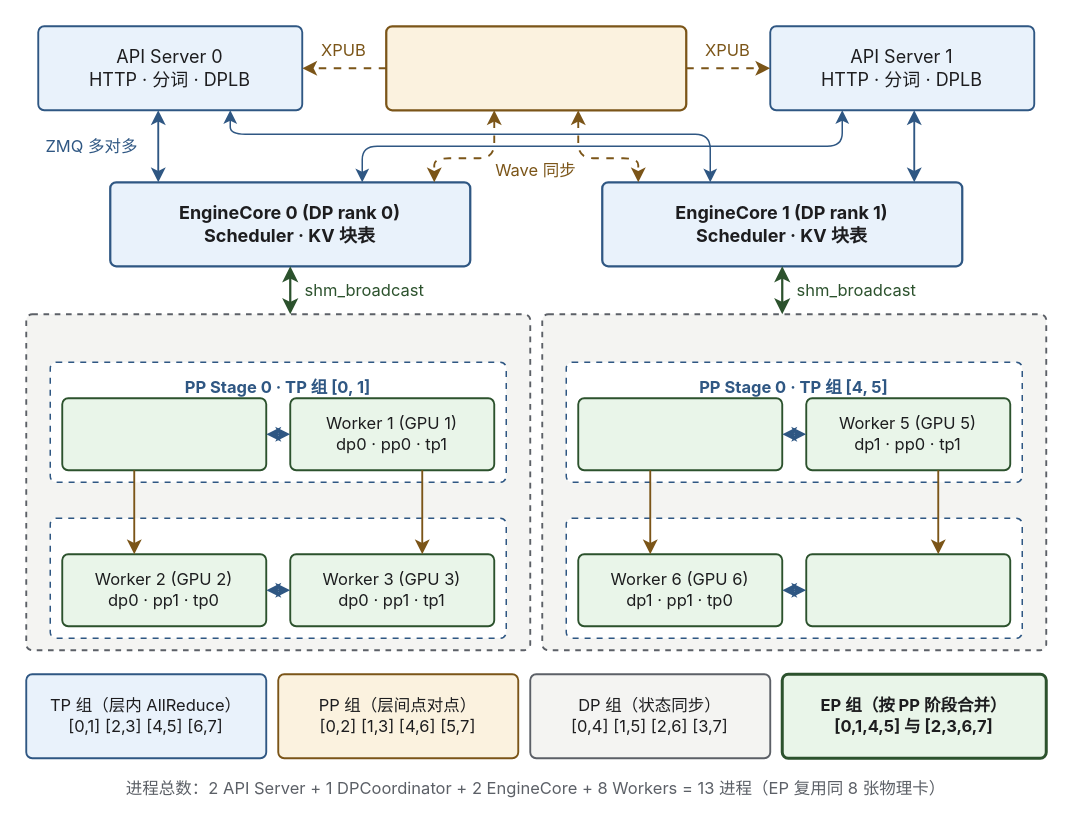
The diagram is 1074 pixels wide and 833 high, and some of its shapes have lost their labels. The shapes that lost their labels are listed below. From the top down, each one's box as (x1, y1, x2, y2) in pixels, then its label:
(384, 24, 687, 111): DPCoordinator (1 进程) 状态聚合 · Wave 广播
(61, 397, 267, 471): Worker 0 (GPU 0) dp0 · pp0 · tp0
(577, 397, 783, 471): Worker 4 (GPU 4) dp1 · pp0 · tp0
(25, 313, 531, 651): DP Rank 0 域（共 4 个 Worker 进程）
(541, 313, 1047, 651): DP Rank 1 域（共 4 个 Worker 进程）
(49, 517, 506, 638): PP Stage 1 · TP 组 [2, 3]
(565, 517, 1022, 638): PP Stage 1 · TP 组 [6, 7]
(805, 553, 1011, 627): Worker 7 (GPU 7) dp1 · pp1 · tp1
